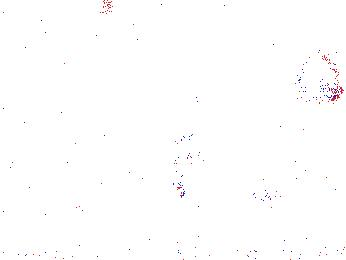flame jellyfish: (155, 123, 207, 199), (246, 160, 316, 204), (289, 56, 344, 103)
